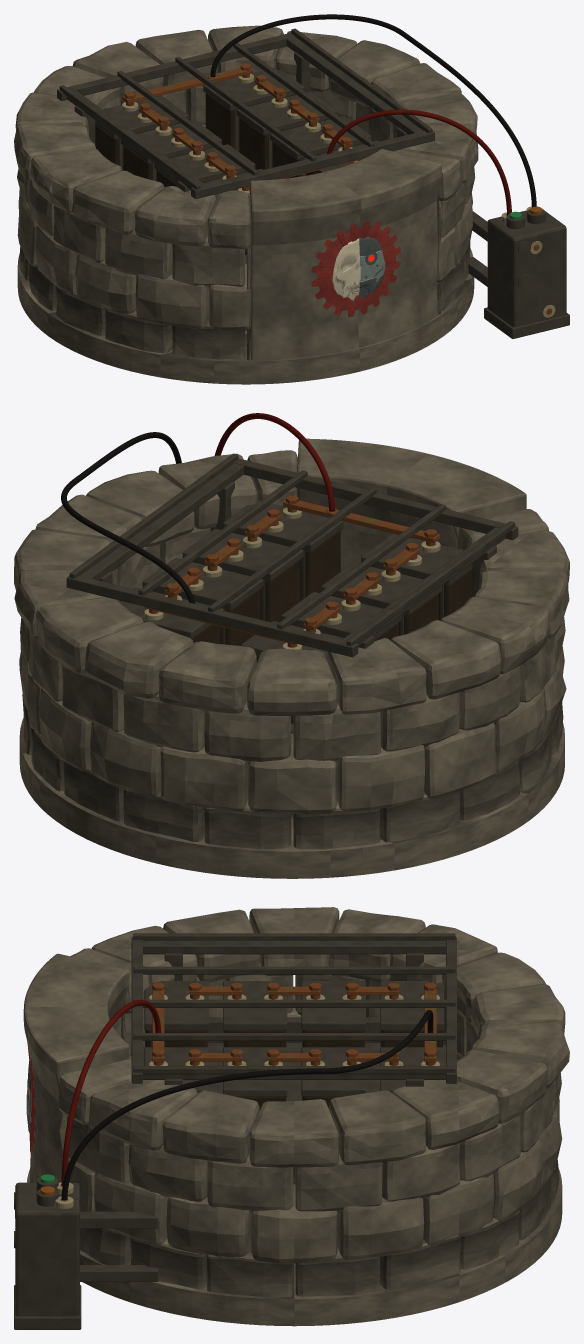
File: primitive-battery-bank-v01.glb
3 views of the same model, one above another, from view 1: azimuth 30°, elevation 25°; view 2: azimuth 150°, elevation 25°; view 3: azimuth 270°, elevation 25° (orthographic). The views are drawn at different scales.
Visible parts, largest first — view 1: Grounded carved circuit receiving tablet, Continuous grounded rubble footing, Bank | grounded isolated terminal pedestal, Hand-laid course 3 stone 09.0, Hand-laid course 3 stone 10.0, Cache centered emblem | Mars emblem | twenty tooth cog surro, Hand-laid course 1 stone 10.0, Hand-laid course 3 stone 08.0, Bank | guard cross rail -0.56, Hand-laid course 2 stone 11.0, Hand-laid course 1 stone 09.0, Hand-laid course 2 stone 10.0 (+54 smaller); view 2: Continuous grounded rubble footing, Grounded carved circuit receiving tablet, Hand-laid course 3 stone 04.0, Hand-laid course 3 stone 06.0, Hand-laid course 3 stone 05.0, Hand-laid course 3 stone 07.0, Hand-laid course 3 stone 03.0, Hand-laid course 1 stone 06.0, Hand-laid course 1 stone 05.0, Hand-laid course 1 stone 04.0, Hand-laid course 3 stone 02.0, Hand-laid course 3 stone 08.0 (+58 smaller); view 3: Continuous grounded rubble footing, Grounded carved circuit receiving tablet, Bank | grounded isolated terminal pedestal, Hand-laid course 3 stone 00.0, Hand-laid course 3 stone 17.0, Hand-laid course 3 stone 16.0, Hand-laid course 3 stone 01.0, Hand-laid course 1 stone 17.0, Hand-laid course 1 stone 00.0, Hand-laid course 3 stone 15.0, Hand-laid course 1 stone 16.0, Bank | guard longitudinal carrier 0 (+56 smaller).
Part boxes in pixels (x1,y1,x2,y2): Grounded carved circuit receiving tablet: (249,149,441,360); Continuous grounded rubble footing: (17,248,474,384); Bank | grounded isolated terminal pedestal: (487,210,566,327); Hand-laid course 3 stone 09.0: (72,170,164,234); Hand-laid course 3 stone 10.0: (135,186,216,246); Cache centered emblem | Mars emblem | twenty tooth cog surro: (311,221,400,316); Hand-laid course 1 stone 10.0: (135,274,208,328); Hand-laid course 3 stone 08.0: (30,148,121,213); Bank | guard cross rail -0.56: (191,131,434,198); Hand-laid course 2 stone 11.0: (172,236,244,286); Hand-laid course 1 stone 09.0: (75,254,136,313); Hand-laid course 2 stone 10.0: (105,228,172,279); Continuous grounded rubble footing: (19,717,564,878); Grounded carved circuit receiving tablet: (297,438,526,571); Hand-laid course 3 stone 04.0: (159,641,256,713); Hand-laid course 3 stone 06.0: (327,638,426,714); Hand-laid course 3 stone 05.0: (247,648,337,715); Hand-laid course 3 stone 07.0: (391,620,501,699); Hand-laid course 3 stone 03.0: (85,622,193,698); Hand-laid course 1 stone 06.0: (335,745,424,811); Hand-laid course 1 stone 05.0: (248,733,336,814); Hand-laid course 1 stone 04.0: (160,746,248,811); Hand-laid course 3 stone 02.0: (36,597,143,673); Hand-laid course 3 stone 08.0: (441,596,549,674); Continuous grounded rubble footing: (27,1169,562,1326); Grounded carved circuit receiving tablet: (23,953,129,1182); Bank | grounded isolated terminal pedestal: (15,1182,79,1316); Hand-laid course 3 stone 00.0: (328,1090,425,1165); Hand-laid course 3 stone 17.0: (249,1099,339,1167); Hand-laid course 3 stone 16.0: (162,1090,259,1163); Hand-laid course 3 stone 01.0: (391,1080,499,1149); Hand-laid course 1 stone 17.0: (251,1184,337,1263); Hand-laid course 1 stone 00.0: (337,1197,424,1260); Hand-laid course 3 stone 15.0: (88,1080,197,1150); Hand-laid course 1 stone 16.0: (166,1197,251,1257); Bank | guard longitudinal carrier 0: (143,941,445,954).
Size of the model in its own units: 1.97 by 0.9816 by 1.98.
19 materials, 16 textured.
